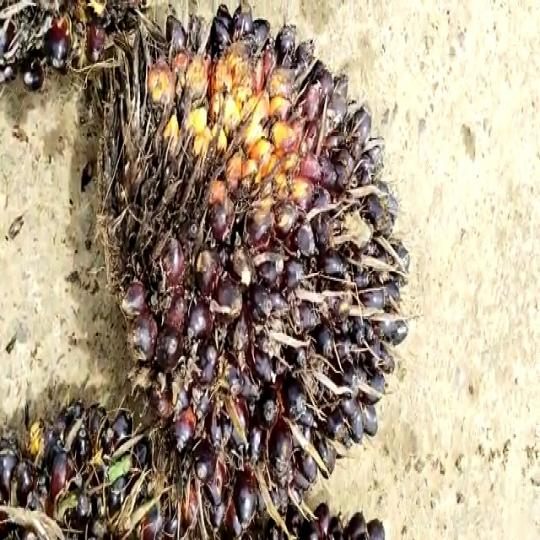mentah: (79, 2, 419, 501)
